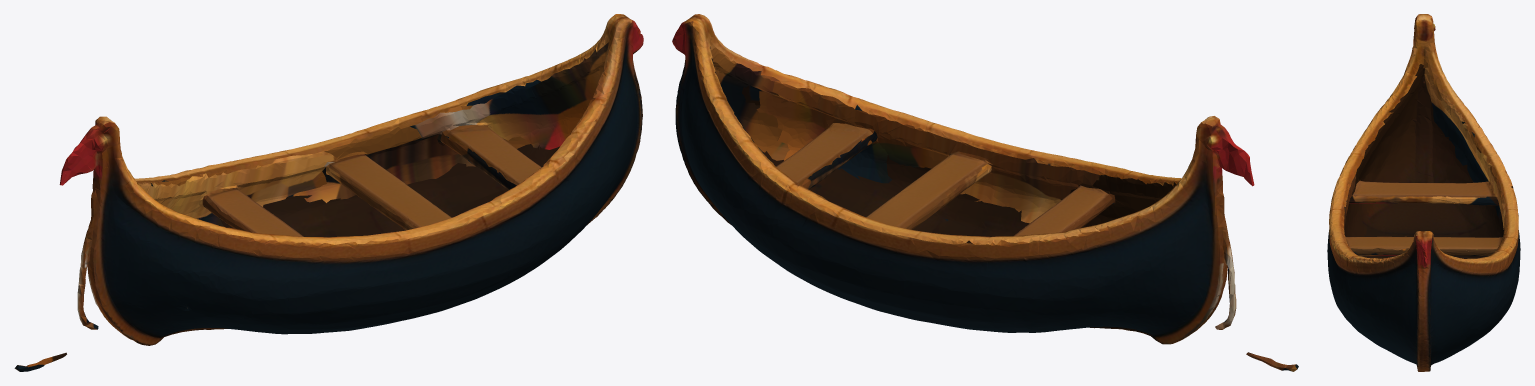
The model's file is boat_painted.glb.
3 renders of one model, left to right at view 1: azimuth 30°, elevation 25°; view 2: azimuth 150°, elevation 25°; view 3: azimuth 270°, elevation 25°, orthographic. The views are drawn at different scales.
Parts seen in each view (by area): view 1: geometry_0; view 2: geometry_0; view 3: geometry_0.
Boxes of the visible parts, x1,y1,x2,y2 form: geometry_0: [14, 14, 643, 371]; geometry_0: [672, 14, 1298, 371]; geometry_0: [1327, 14, 1520, 371].
Bounding box in the file's own units: 1.99 × 0.7816 × 0.6761.
Materials: 1 (1 with a texture image).
